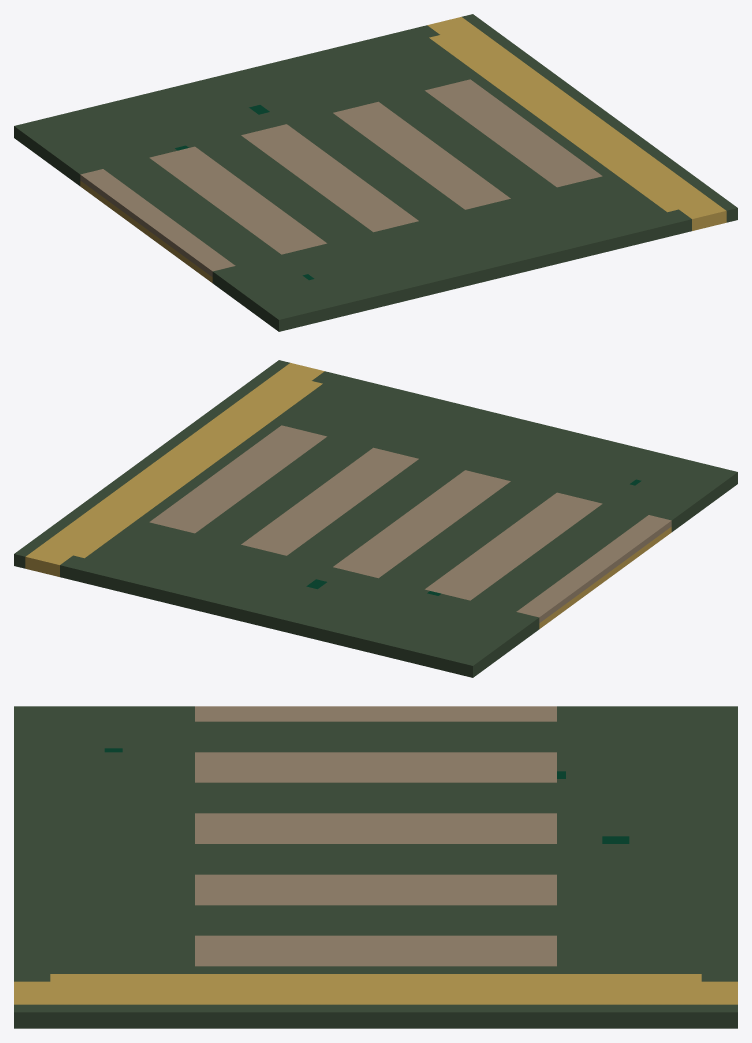
Rendered from crossing-b.obj.
3 renders of one model, top to bottom at view 1: azimuth 30°, elevation 25°; view 2: azimuth 150°, elevation 25°; view 3: azimuth 270°, elevation 25°, orthographic. The views are drawn at different scales.
Visible parts, largest first — view 1: Crossing; view 2: Crossing; view 3: Crossing.
Boxes of the visible parts, left/top/right/bottom form: Crossing: left=14, top=14, right=737, bottom=331; Crossing: left=14, top=360, right=737, bottom=677; Crossing: left=14, top=706, right=737, bottom=1028.
Bounding box in the file's own units: 1.6 × 0.04 × 1.6.
Materials: 1 (1 with a texture image).
